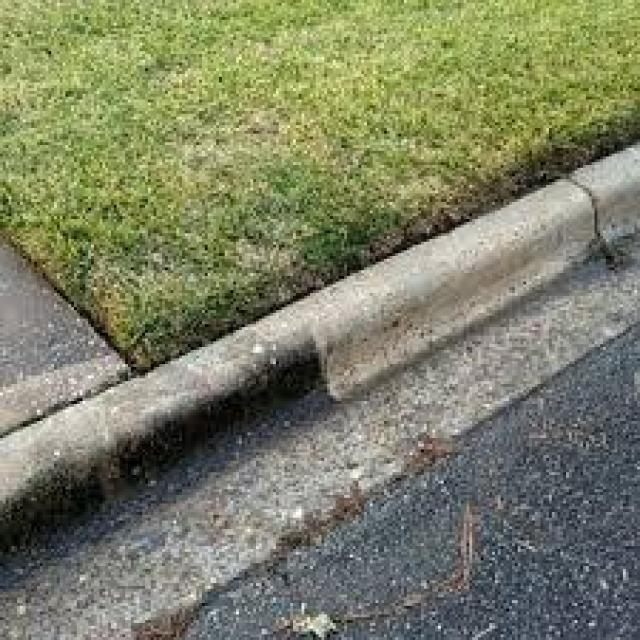bump: (192, 149, 639, 405)
